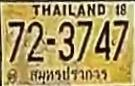2: (26, 20, 43, 62)
3: (58, 21, 74, 60)
4: (94, 20, 110, 60)
7: (8, 21, 24, 62), (76, 20, 92, 61), (113, 19, 128, 60)
SPK: (29, 65, 108, 84)
